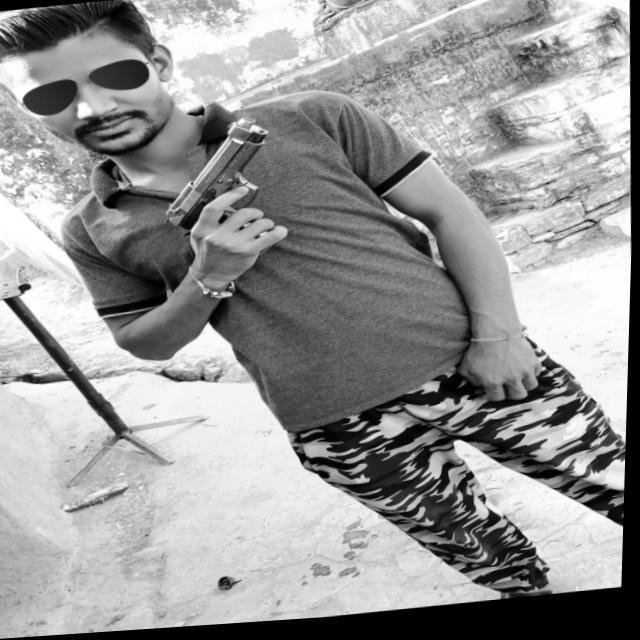weapon: (158, 115, 287, 264)
